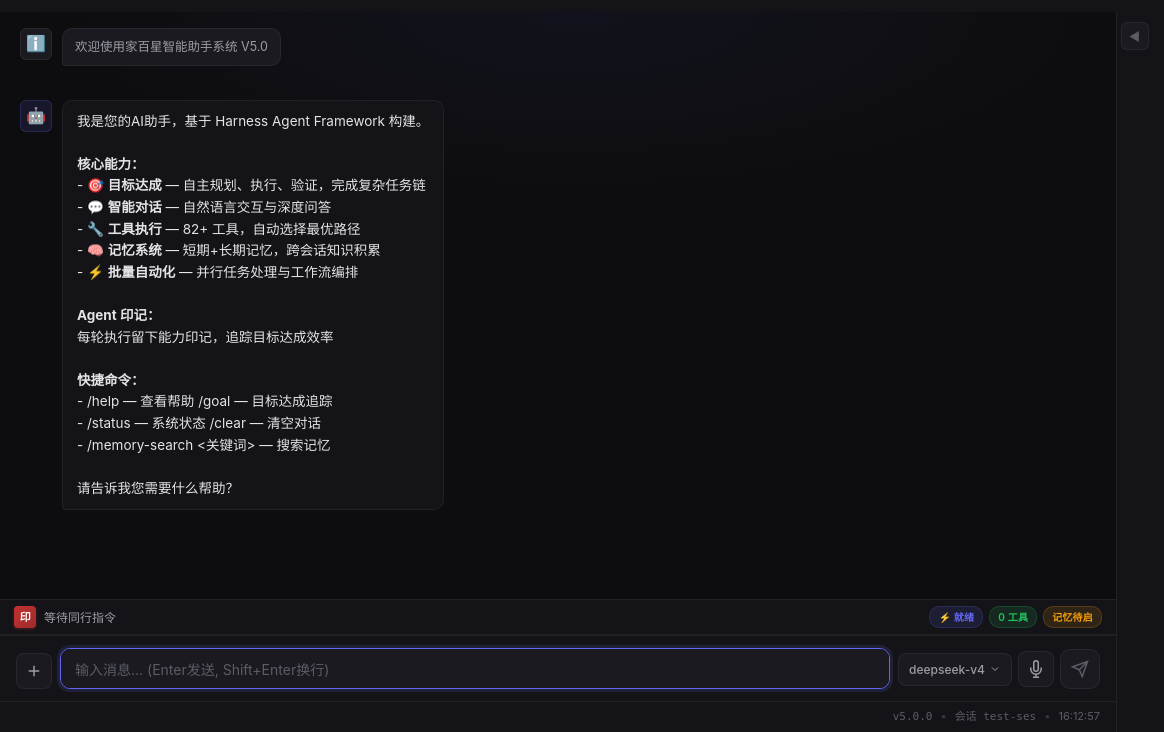
Test: 聊天渲染契约：一次发送只新增恰好一条助手气泡（无双回复） › 发送一条消息：助手气泡数 = 基线 + 1，且回复文本只出现一次
Type "你好" into the text box with placeholder "输入消息... (Enter发送, Shift+Enter换行)".
click(475, 669); type("你好")  # box [60, 648, 890, 689]
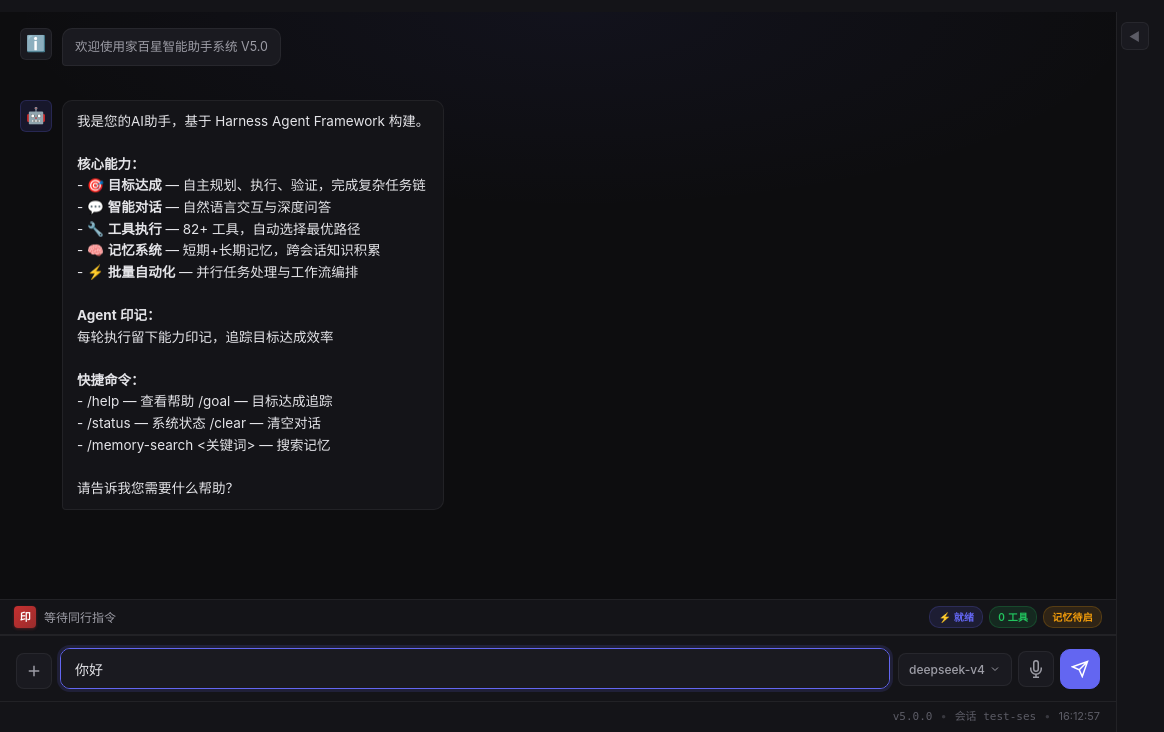
Click the button with class "hermes-send-btn".
click(1080, 669)  # box [1060, 649, 1100, 689]
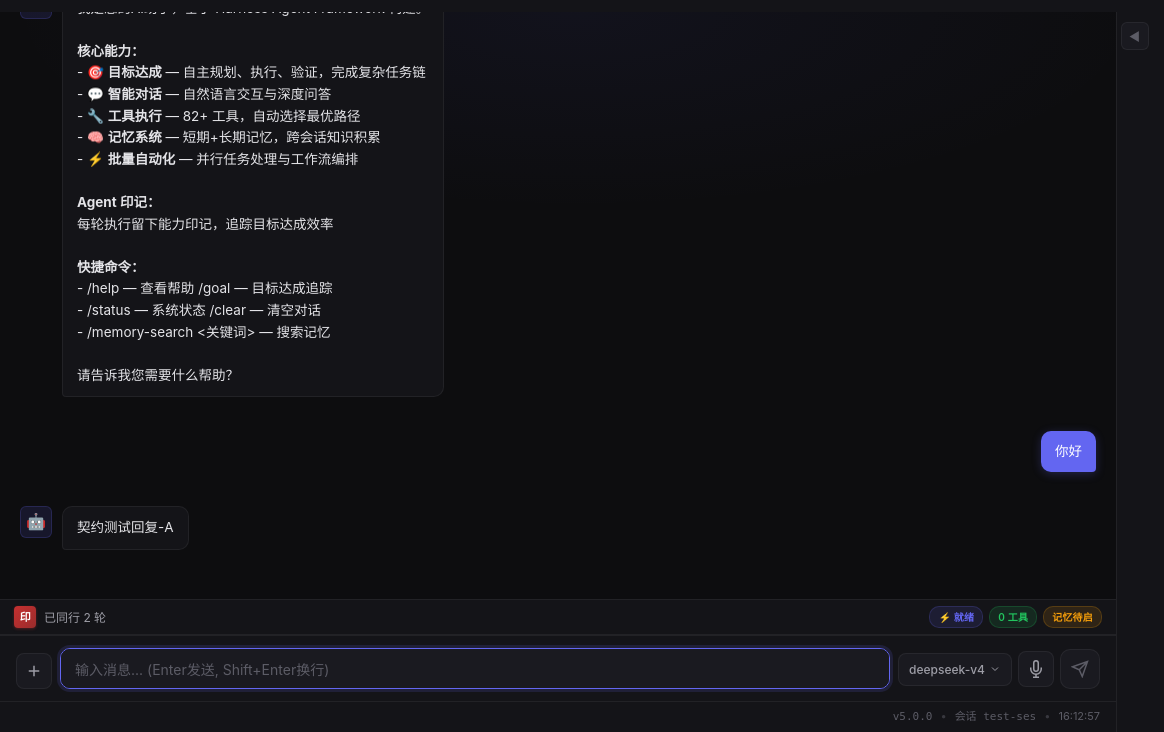
Check: the text "契约测试回复-A" is shown, box [62, 506, 188, 550]
